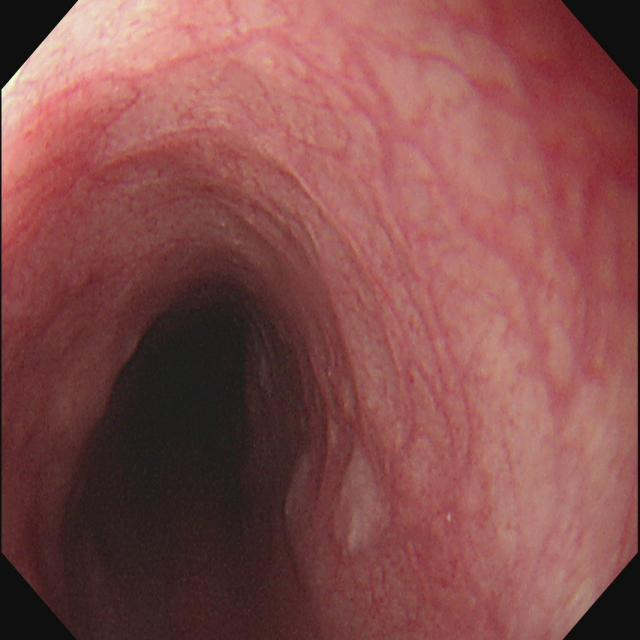E: (49, 245, 325, 625)
